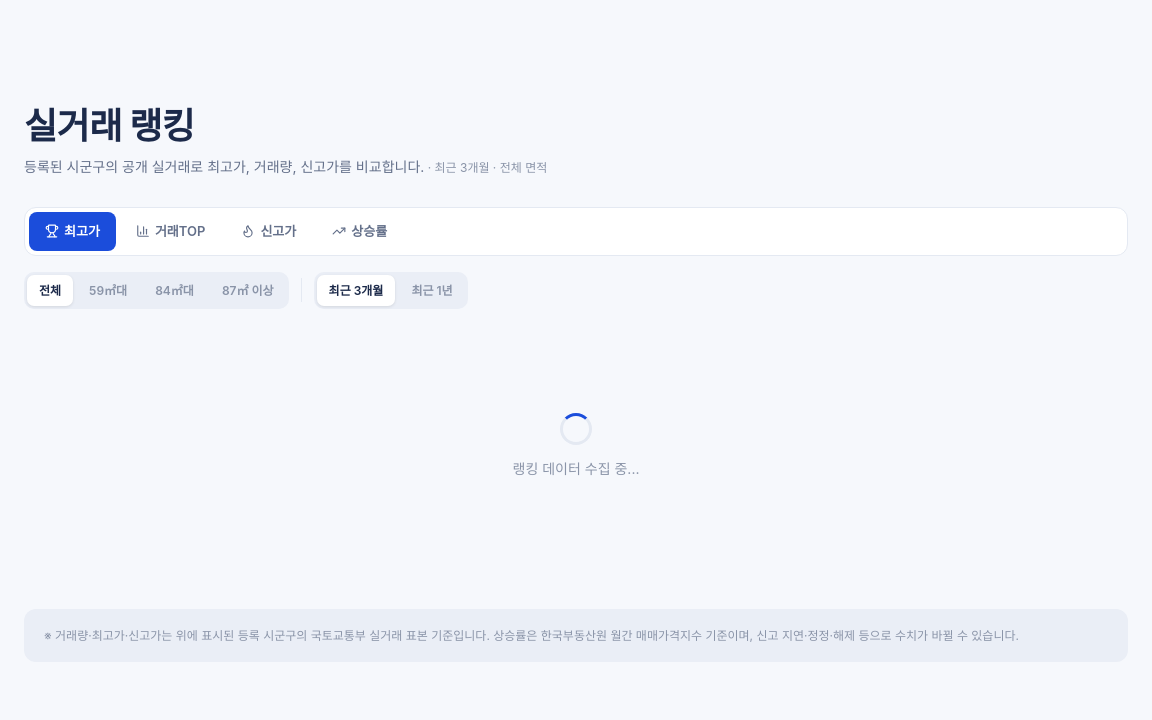
Test case: RankingClientPage › 필터가 바뀐 후 이전 요청의 느린 응답을 반영하지 않는다
Click the button "최근 1년" at x=432, y=290, box [399,275,465,306]
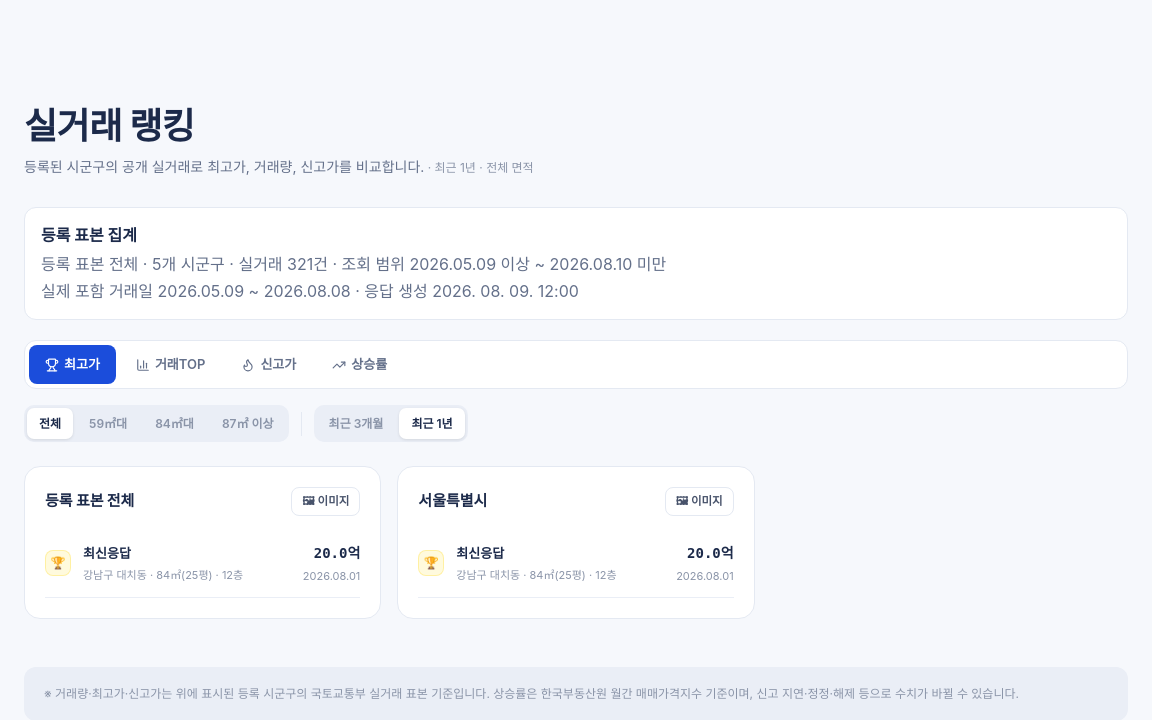
Now the text "최신응답" is shown, box [83,545,131,561]
